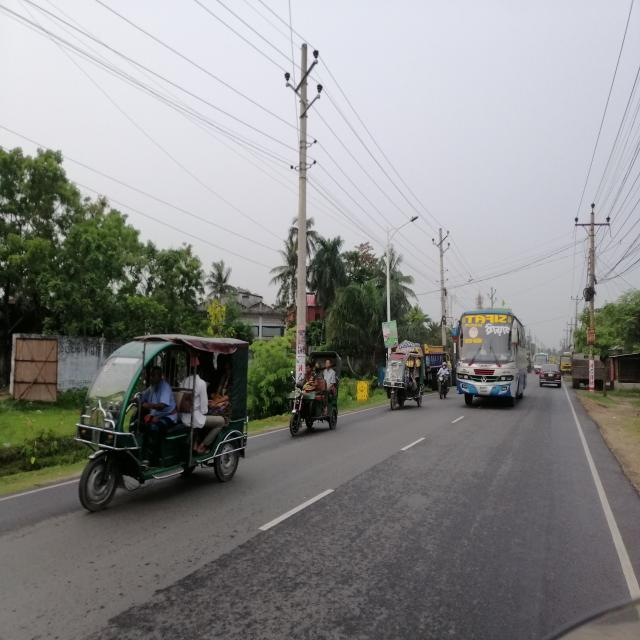Bus: (454, 307, 529, 412)
Car: (538, 361, 561, 388)
Easybike: (70, 320, 261, 512), (381, 344, 425, 412)
Rickshaw: (285, 346, 346, 440)
